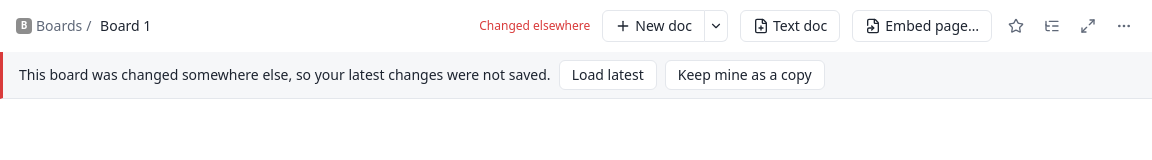
Scenario: ConflictBanner › a 412 shows the banner; "Load latest" opens the server board and saving resumes from its rev
Expected: the 2nd message is shown, [0,52,1151,99]
Click the button "Load latest" at (608, 75), box [559,60,657,90]
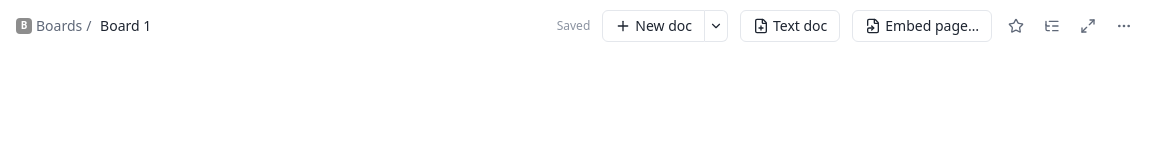
Now the text "changed somewhere else" is gone
